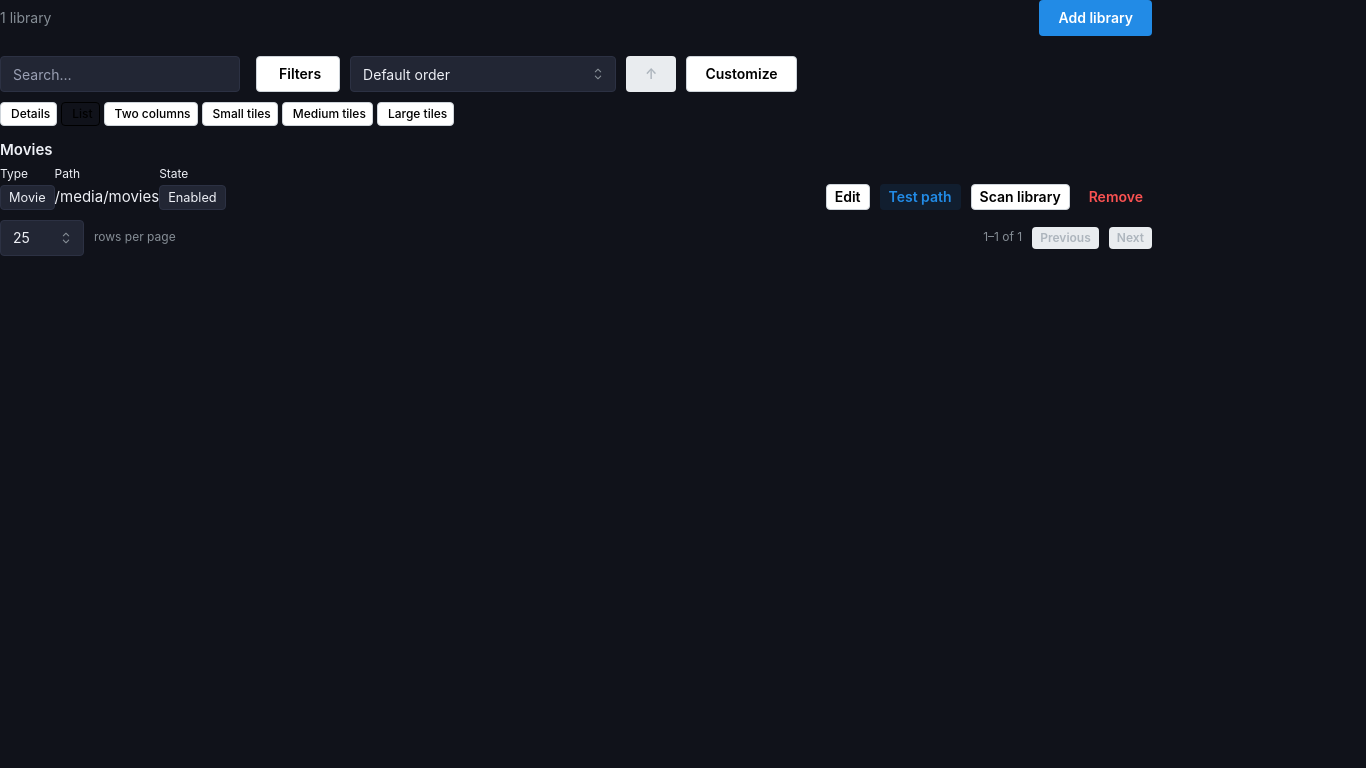
Test: LibraryManager › requires explicit confirmation before removing only the definition
expect the text "/media/movies" is shown: met, box [55,184,159,208]
Click the button "Remove" at (1116, 197), box [1080,184,1152,210]
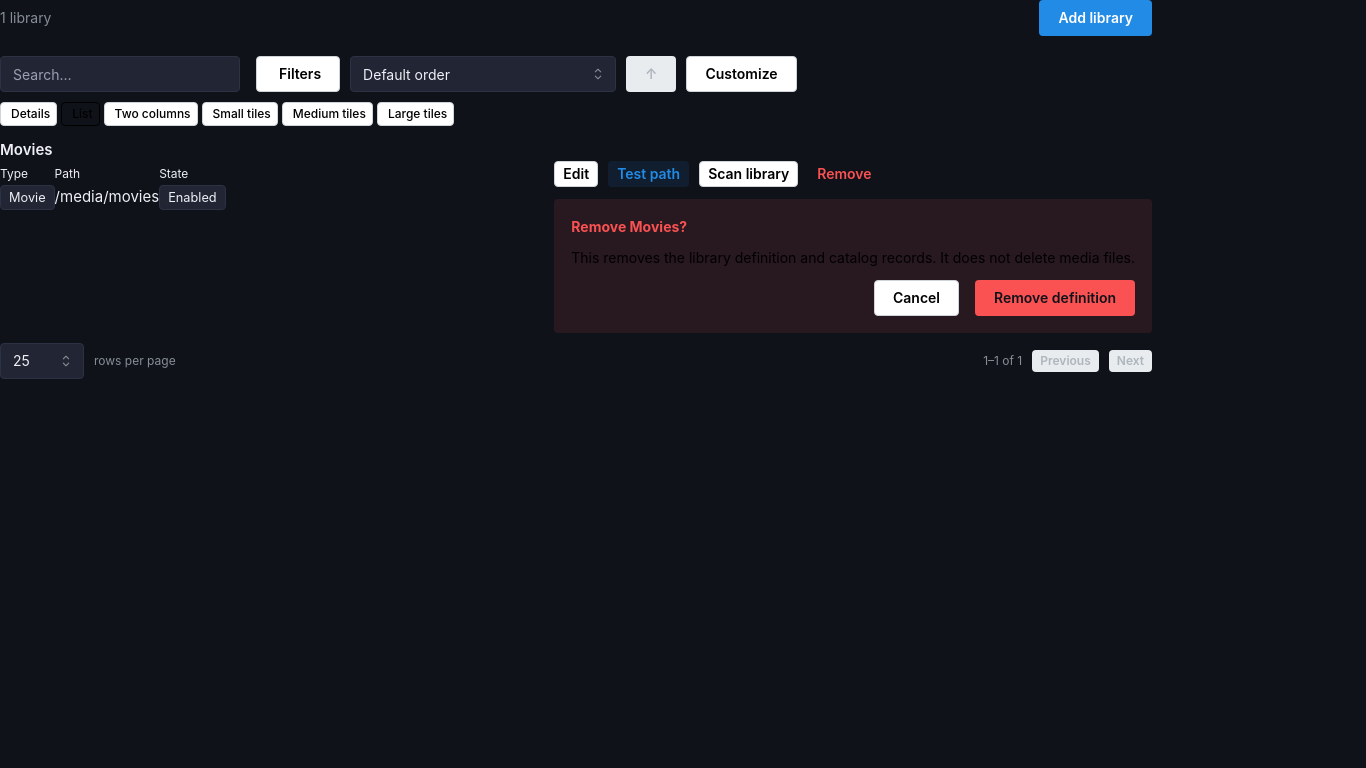
expect the text "does not delete media files" is shown: met, box [571,249,1135,266]
Click the button "Remove definition" at (1055, 298), box [975,280,1135,316]
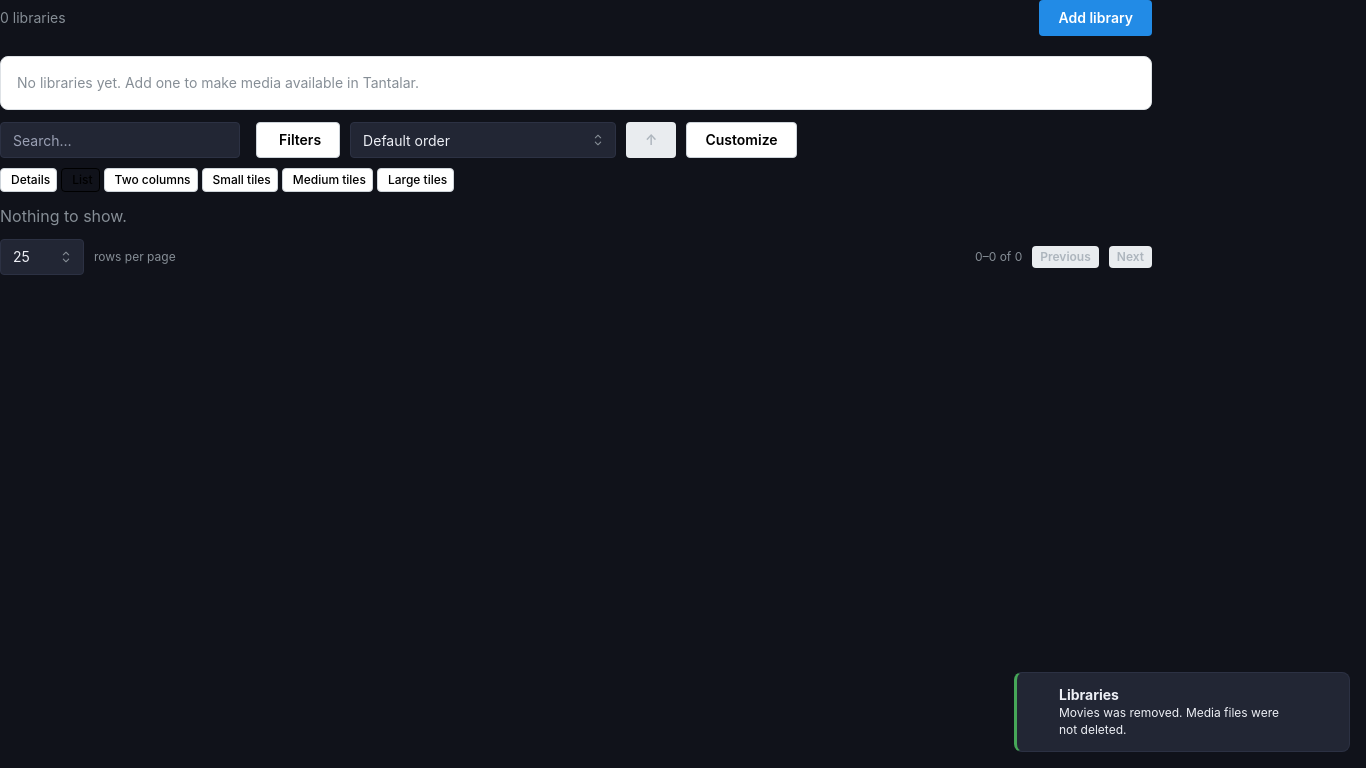
expect the text "Movies was removed. Media files were not deleted." is shown: met, box [1059,705,1301,739]
